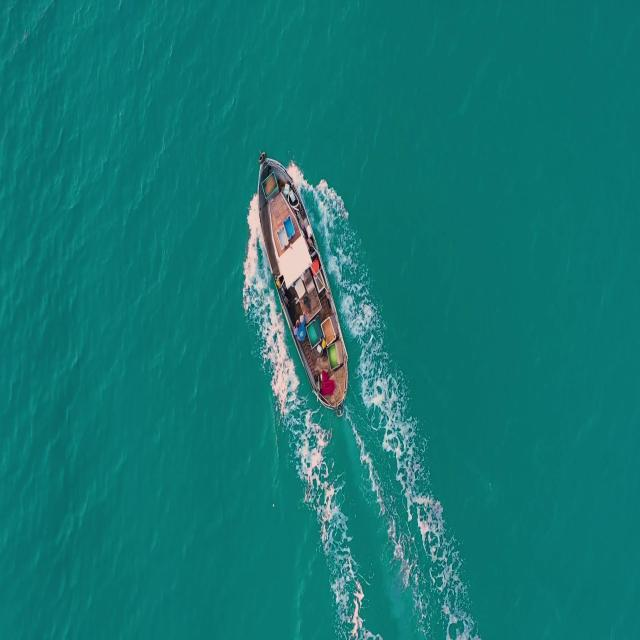ship: (249, 140, 359, 419)
